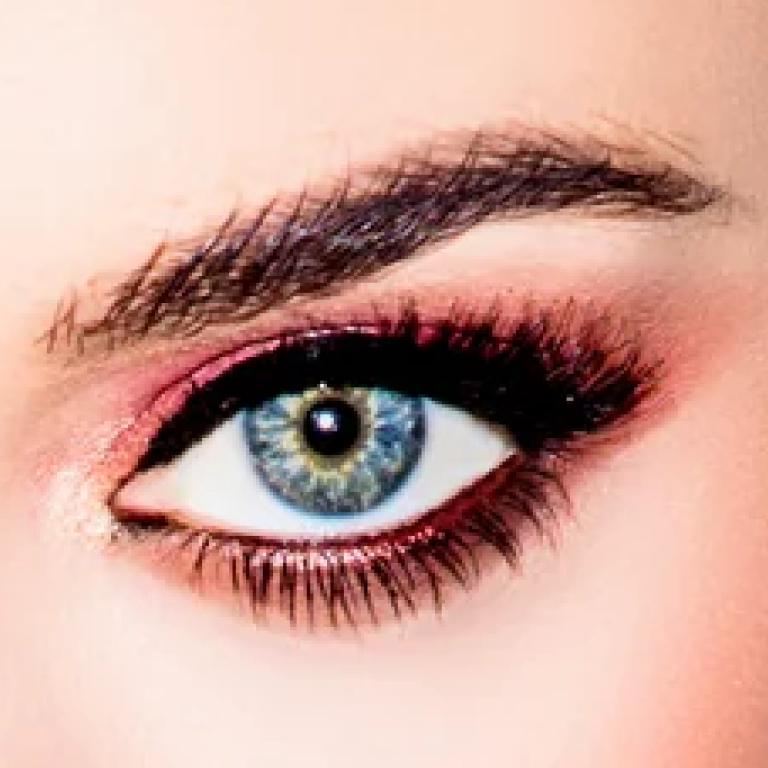iris: (246, 373, 422, 514)
pupil: (304, 398, 361, 455)
sclera: (171, 398, 518, 535)
